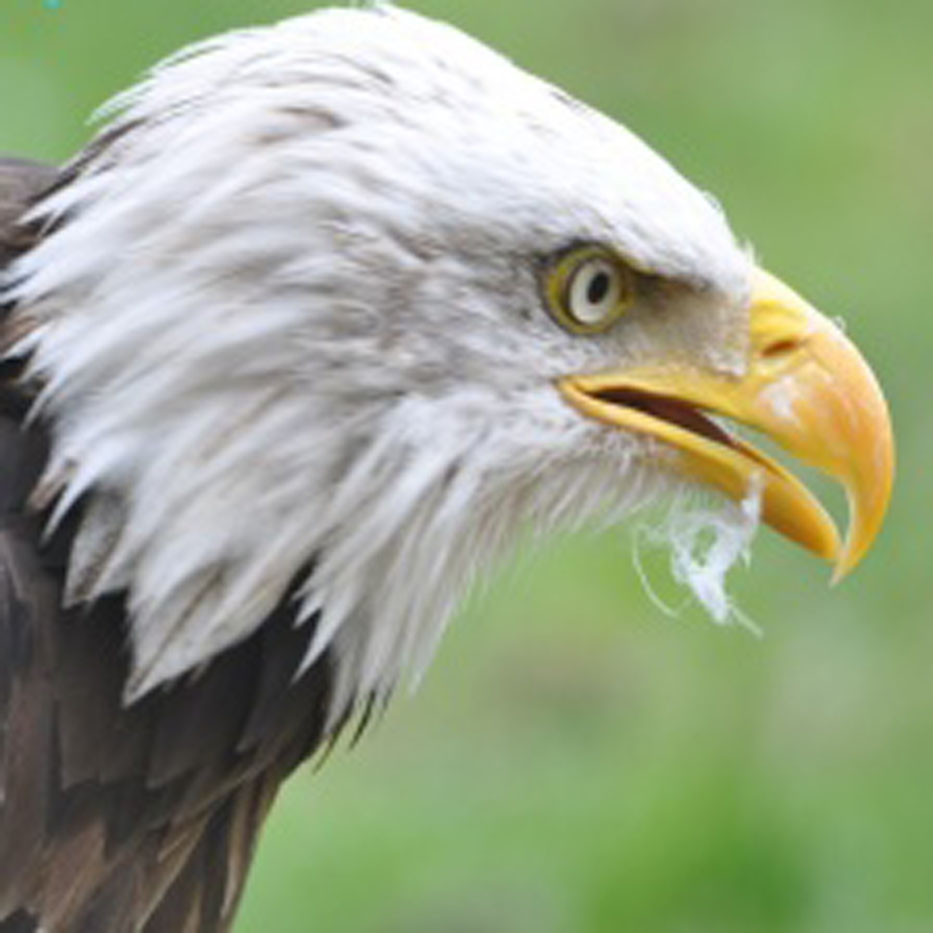Pengoyak Daging: (666, 267, 909, 592)
